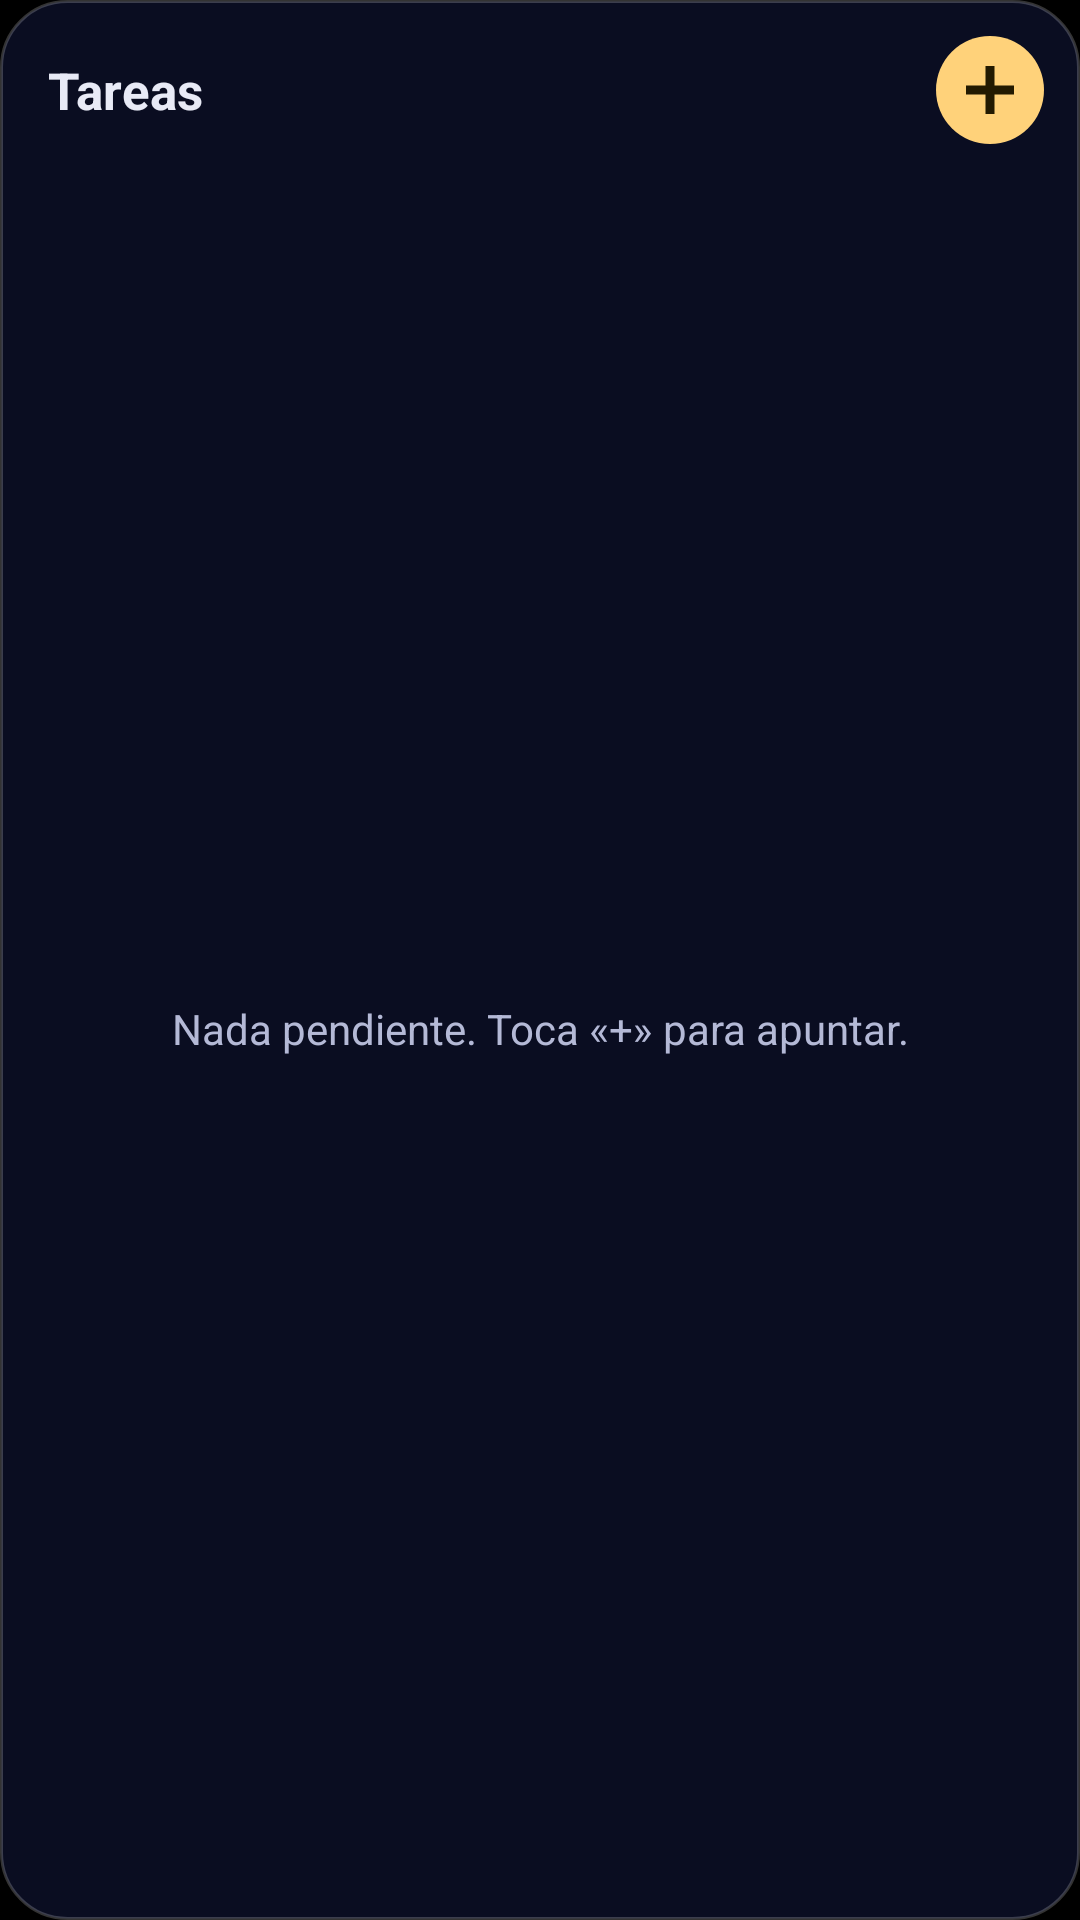

Named icons in this screenshot (1080 × 1920) and their bounding boxes, (x1, y1, x2, y2):
Apuntar una tarea: (936, 36, 1044, 144)
